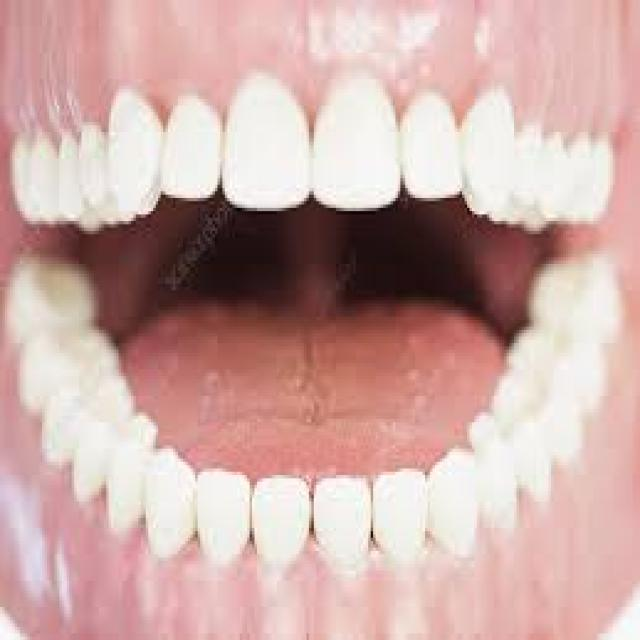tooth: (222, 73, 309, 211), (319, 76, 400, 204), (516, 129, 613, 221), (104, 89, 158, 218), (524, 330, 600, 419), (395, 89, 455, 195), (462, 96, 519, 204), (430, 436, 482, 554), (163, 99, 218, 208), (10, 257, 91, 327), (17, 330, 99, 399), (548, 261, 612, 343), (192, 465, 250, 554), (309, 478, 366, 568), (252, 472, 311, 554), (371, 472, 430, 554), (148, 452, 193, 551), (62, 132, 109, 218), (477, 416, 511, 518), (509, 409, 546, 502), (10, 138, 54, 214), (114, 429, 146, 531), (47, 392, 86, 458), (82, 422, 106, 492)
